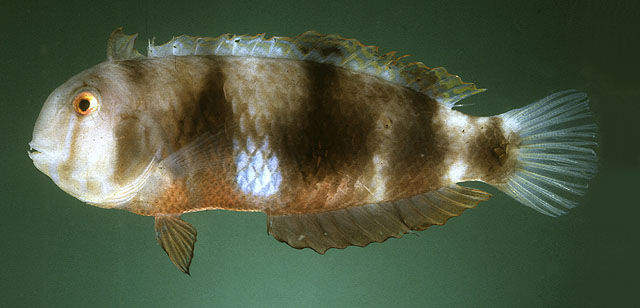fish: (28, 26, 601, 277)
